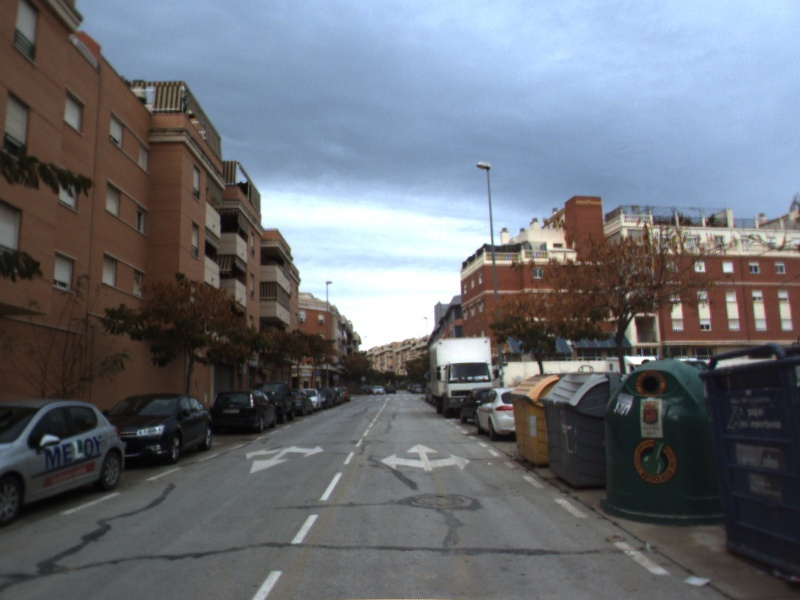STRAIGHT_LEFT_RIGHT: (379, 442, 472, 473)
